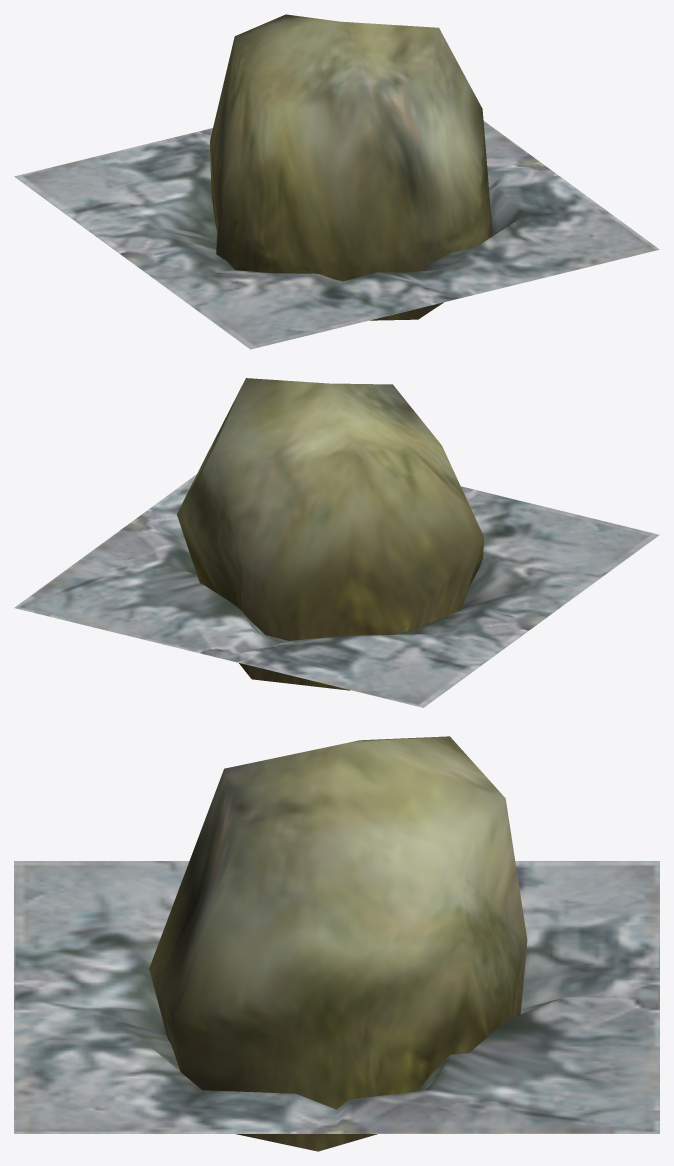
Rendered from a_SWAhole02_c.glb.
3 renders of one model, top to bottom at view 1: azimuth 30°, elevation 25°; view 2: azimuth 150°, elevation 25°; view 3: azimuth 270°, elevation 25°, orthographic. The views are drawn at different scales.
Parts seen in each view (by area): view 1: a_SWAhole02_c; view 2: a_SWAhole02_c; view 3: a_SWAhole02_c.
Part boxes in pixels (x1,y1,x2,y2): a_SWAhole02_c: [14, 14, 659, 349]; a_SWAhole02_c: [14, 378, 659, 707]; a_SWAhole02_c: [14, 736, 659, 1151].
Size of the model in its own units: 1 by 0.6836 by 1.
Materials: 2 (2 with a texture image).
